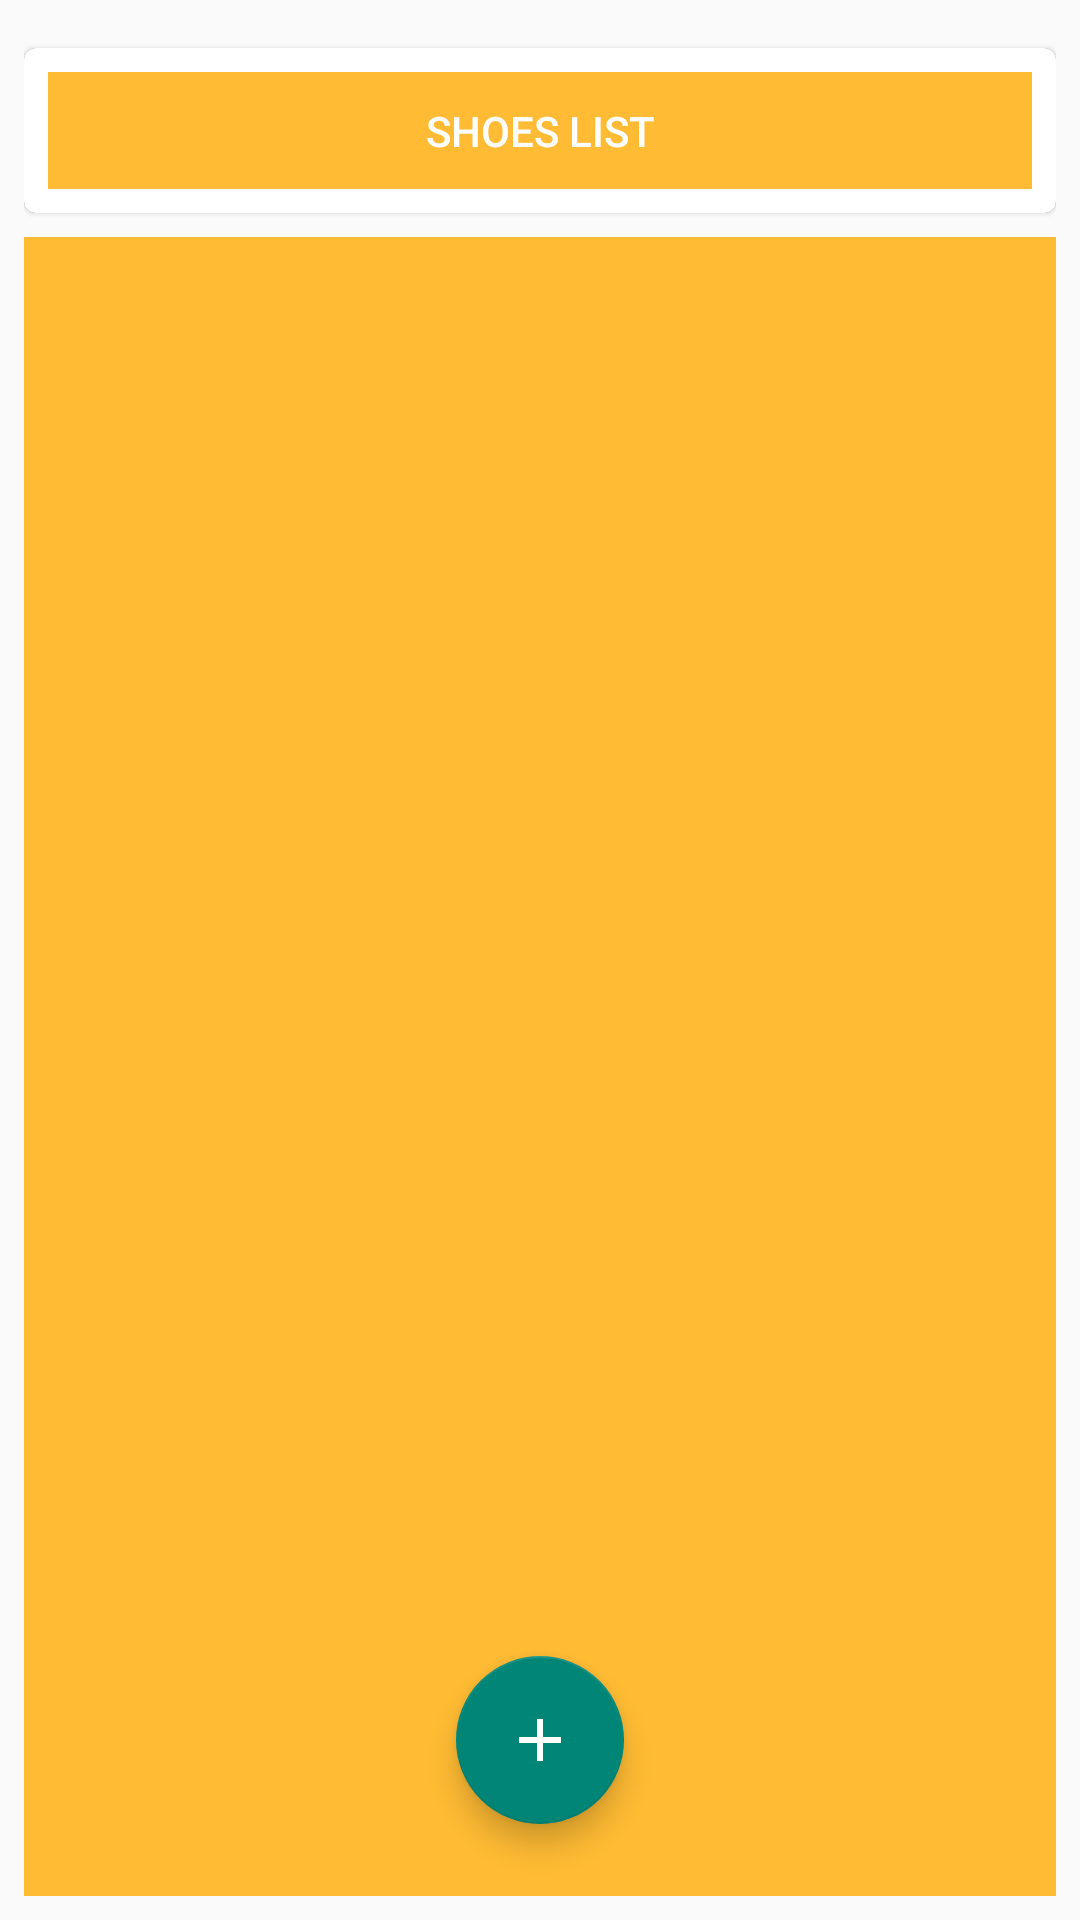

Screen size 1080w x 1920h. Icon name, then its box in pixels as {"left": x1, "top": y1, "right": x2, "bottom": y2}:
Add Product: {"left": 456, "top": 1656, "right": 624, "bottom": 1824}
